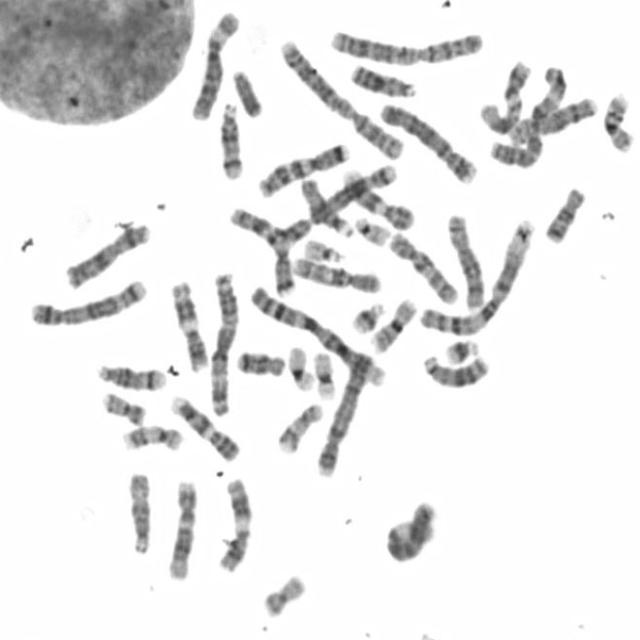A1: (246, 283, 387, 390), (416, 215, 536, 338)
A2: (275, 36, 406, 161), (323, 24, 485, 67)
A3: (486, 62, 569, 168), (204, 268, 239, 418)
B4: (377, 98, 478, 186), (312, 349, 374, 479)
B5: (26, 275, 149, 328), (303, 160, 398, 227)
C10: (385, 228, 461, 307), (289, 253, 382, 295)
C11: (213, 472, 254, 575), (168, 276, 209, 372)
C12: (477, 56, 532, 136), (164, 477, 198, 583)
C6: (187, 8, 241, 122), (382, 496, 438, 567)
C7: (226, 202, 295, 297), (254, 139, 350, 199)
C8: (504, 92, 598, 144), (444, 210, 486, 311)
C9: (167, 392, 241, 464), (340, 165, 414, 232)
D13: (419, 349, 489, 390), (347, 60, 417, 99)
D14: (93, 360, 167, 392), (217, 99, 244, 181)
D15: (297, 176, 353, 238), (125, 467, 152, 556)
E16: (367, 295, 418, 355), (600, 90, 634, 154)
E17: (274, 400, 324, 456), (120, 421, 185, 454)
E18: (540, 183, 586, 245), (233, 347, 287, 379)
F19: (284, 341, 316, 393), (311, 348, 337, 400)
F20: (257, 570, 309, 620), (99, 389, 147, 427)
G21: (348, 298, 386, 334), (441, 336, 481, 366)
G22: (352, 212, 391, 247), (301, 235, 346, 264)
X: (61, 219, 151, 292)
Y: (230, 65, 264, 119)
